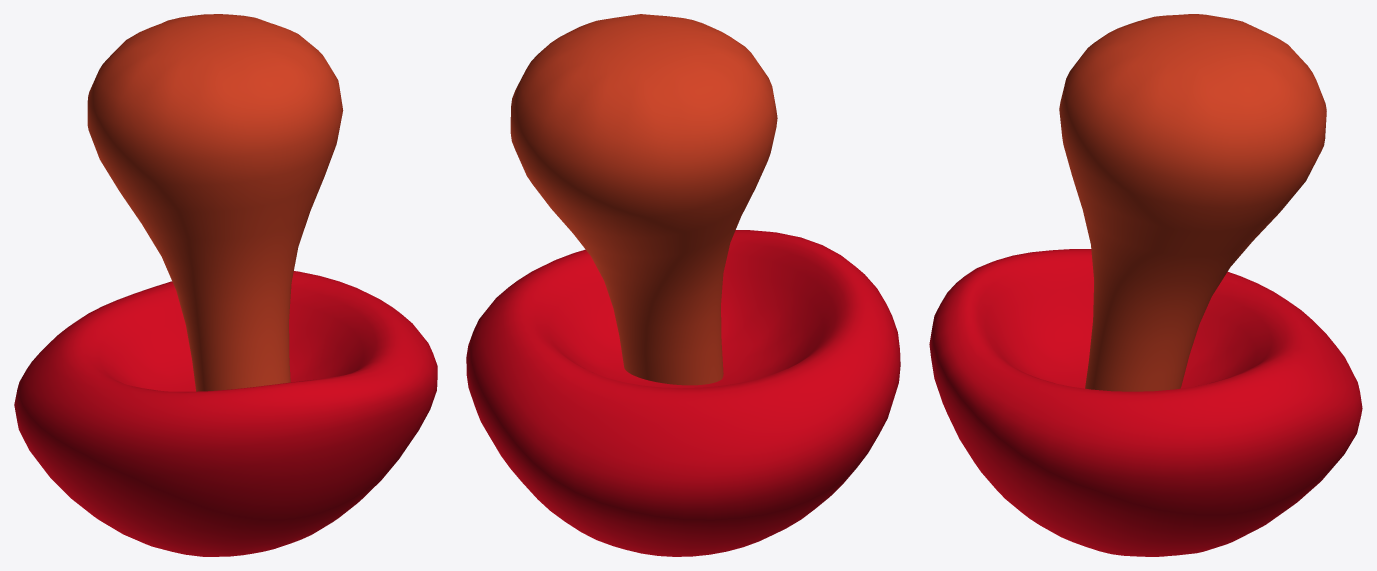
The model's file is mushroom.obj.
The picture shows the model from 3 angles, left to right: view 1: azimuth 30°, elevation 25°; view 2: azimuth 150°, elevation 25°; view 3: azimuth 270°, elevation 25°; orthographic projection. The views are drawn at different scales.
Visible parts, largest first — view 1: Circle.001, Circle; view 2: Circle.001, Circle; view 3: Circle.001, Circle.
Part boxes in pixels (x1=…): Circle.001: x1=14, y1=271, x2=437, y2=556; Circle: x1=87, y1=14, x2=343, y2=391; Circle.001: x1=466, y1=230, x2=900, y2=556; Circle: x1=510, y1=14, x2=777, y2=385; Circle.001: x1=929, y1=249, x2=1362, y2=556; Circle: x1=1059, y1=14, x2=1326, y2=391.
Size of the model in its own units: 4 by 5.11 by 3.92.
